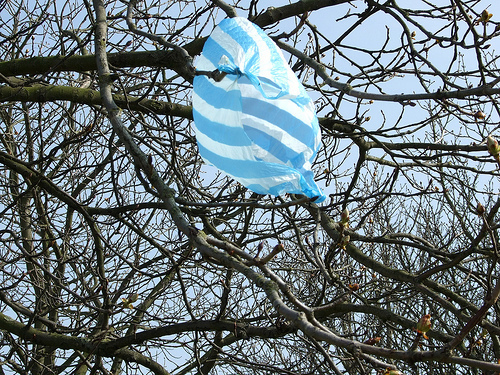litter: (190, 15, 325, 203)
